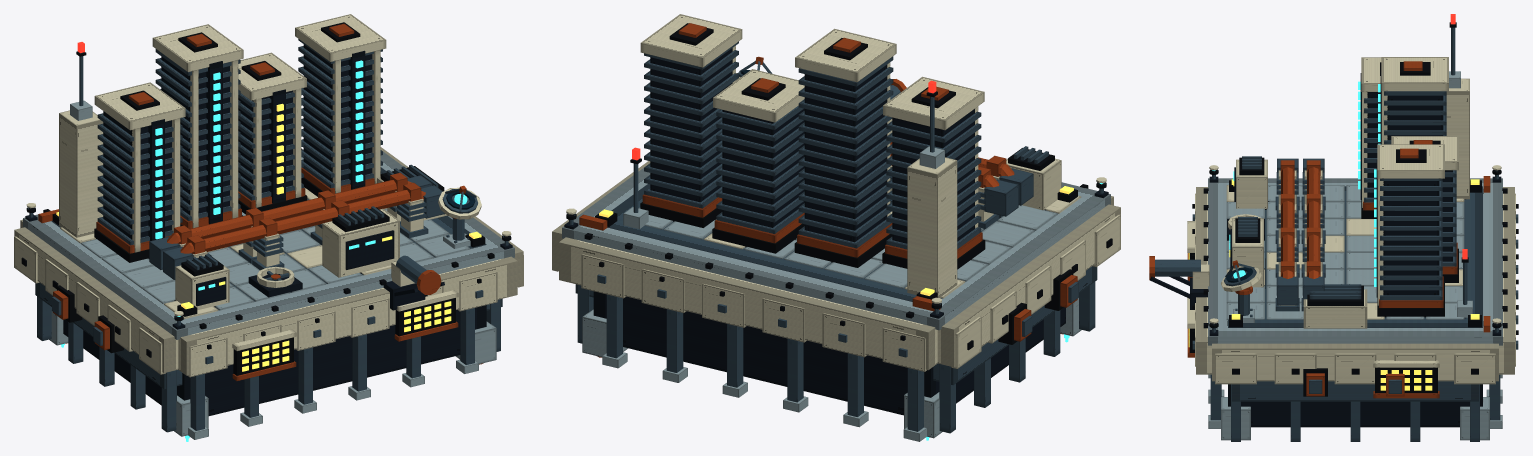
File: power_relay.glb
The picture shows the model from 3 angles, left to right: view 1: azimuth 30°, elevation 25°; view 2: azimuth 150°, elevation 25°; view 3: azimuth 270°, elevation 25°; orthographic projection. The views are drawn at different scales.
Visible parts, largest first — view 1: power_relay_static / module, Ship_04_ChargingTug / connected pressure berth / module, power_telemetry / module, Power / coolant pump / fixed grille rim / module, power_telemetry_fixed_pedestal / module; view 2: power_relay_static / module; view 3: power_relay_static / module, Ship_04_ChargingTug / connected pressure berth / module, power_telemetry / module, power_telemetry_fixed_pedestal / module.
Boxes of the visible parts, x1,y1,x2,y2 form: power_relay_static / module: [14, 14, 523, 439]; Ship_04_ChargingTug / connected pressure berth / module: [383, 255, 444, 310]; power_telemetry / module: [438, 185, 481, 219]; Power / coolant pump / fixed grille rim / module: [248, 266, 302, 297]; power_telemetry_fixed_pedestal / module: [443, 217, 470, 248]; power_relay_static / module: [552, 14, 1120, 441]; power_relay_static / module: [1187, 14, 1518, 441]; Ship_04_ChargingTug / connected pressure berth / module: [1149, 256, 1209, 309]; power_telemetry / module: [1221, 260, 1261, 294]; power_telemetry_fixed_pedestal / module: [1233, 286, 1254, 322].
Bounding box in the file's own units: 21.44 × 16.65 × 18.54.
10 materials, 10 textured.
